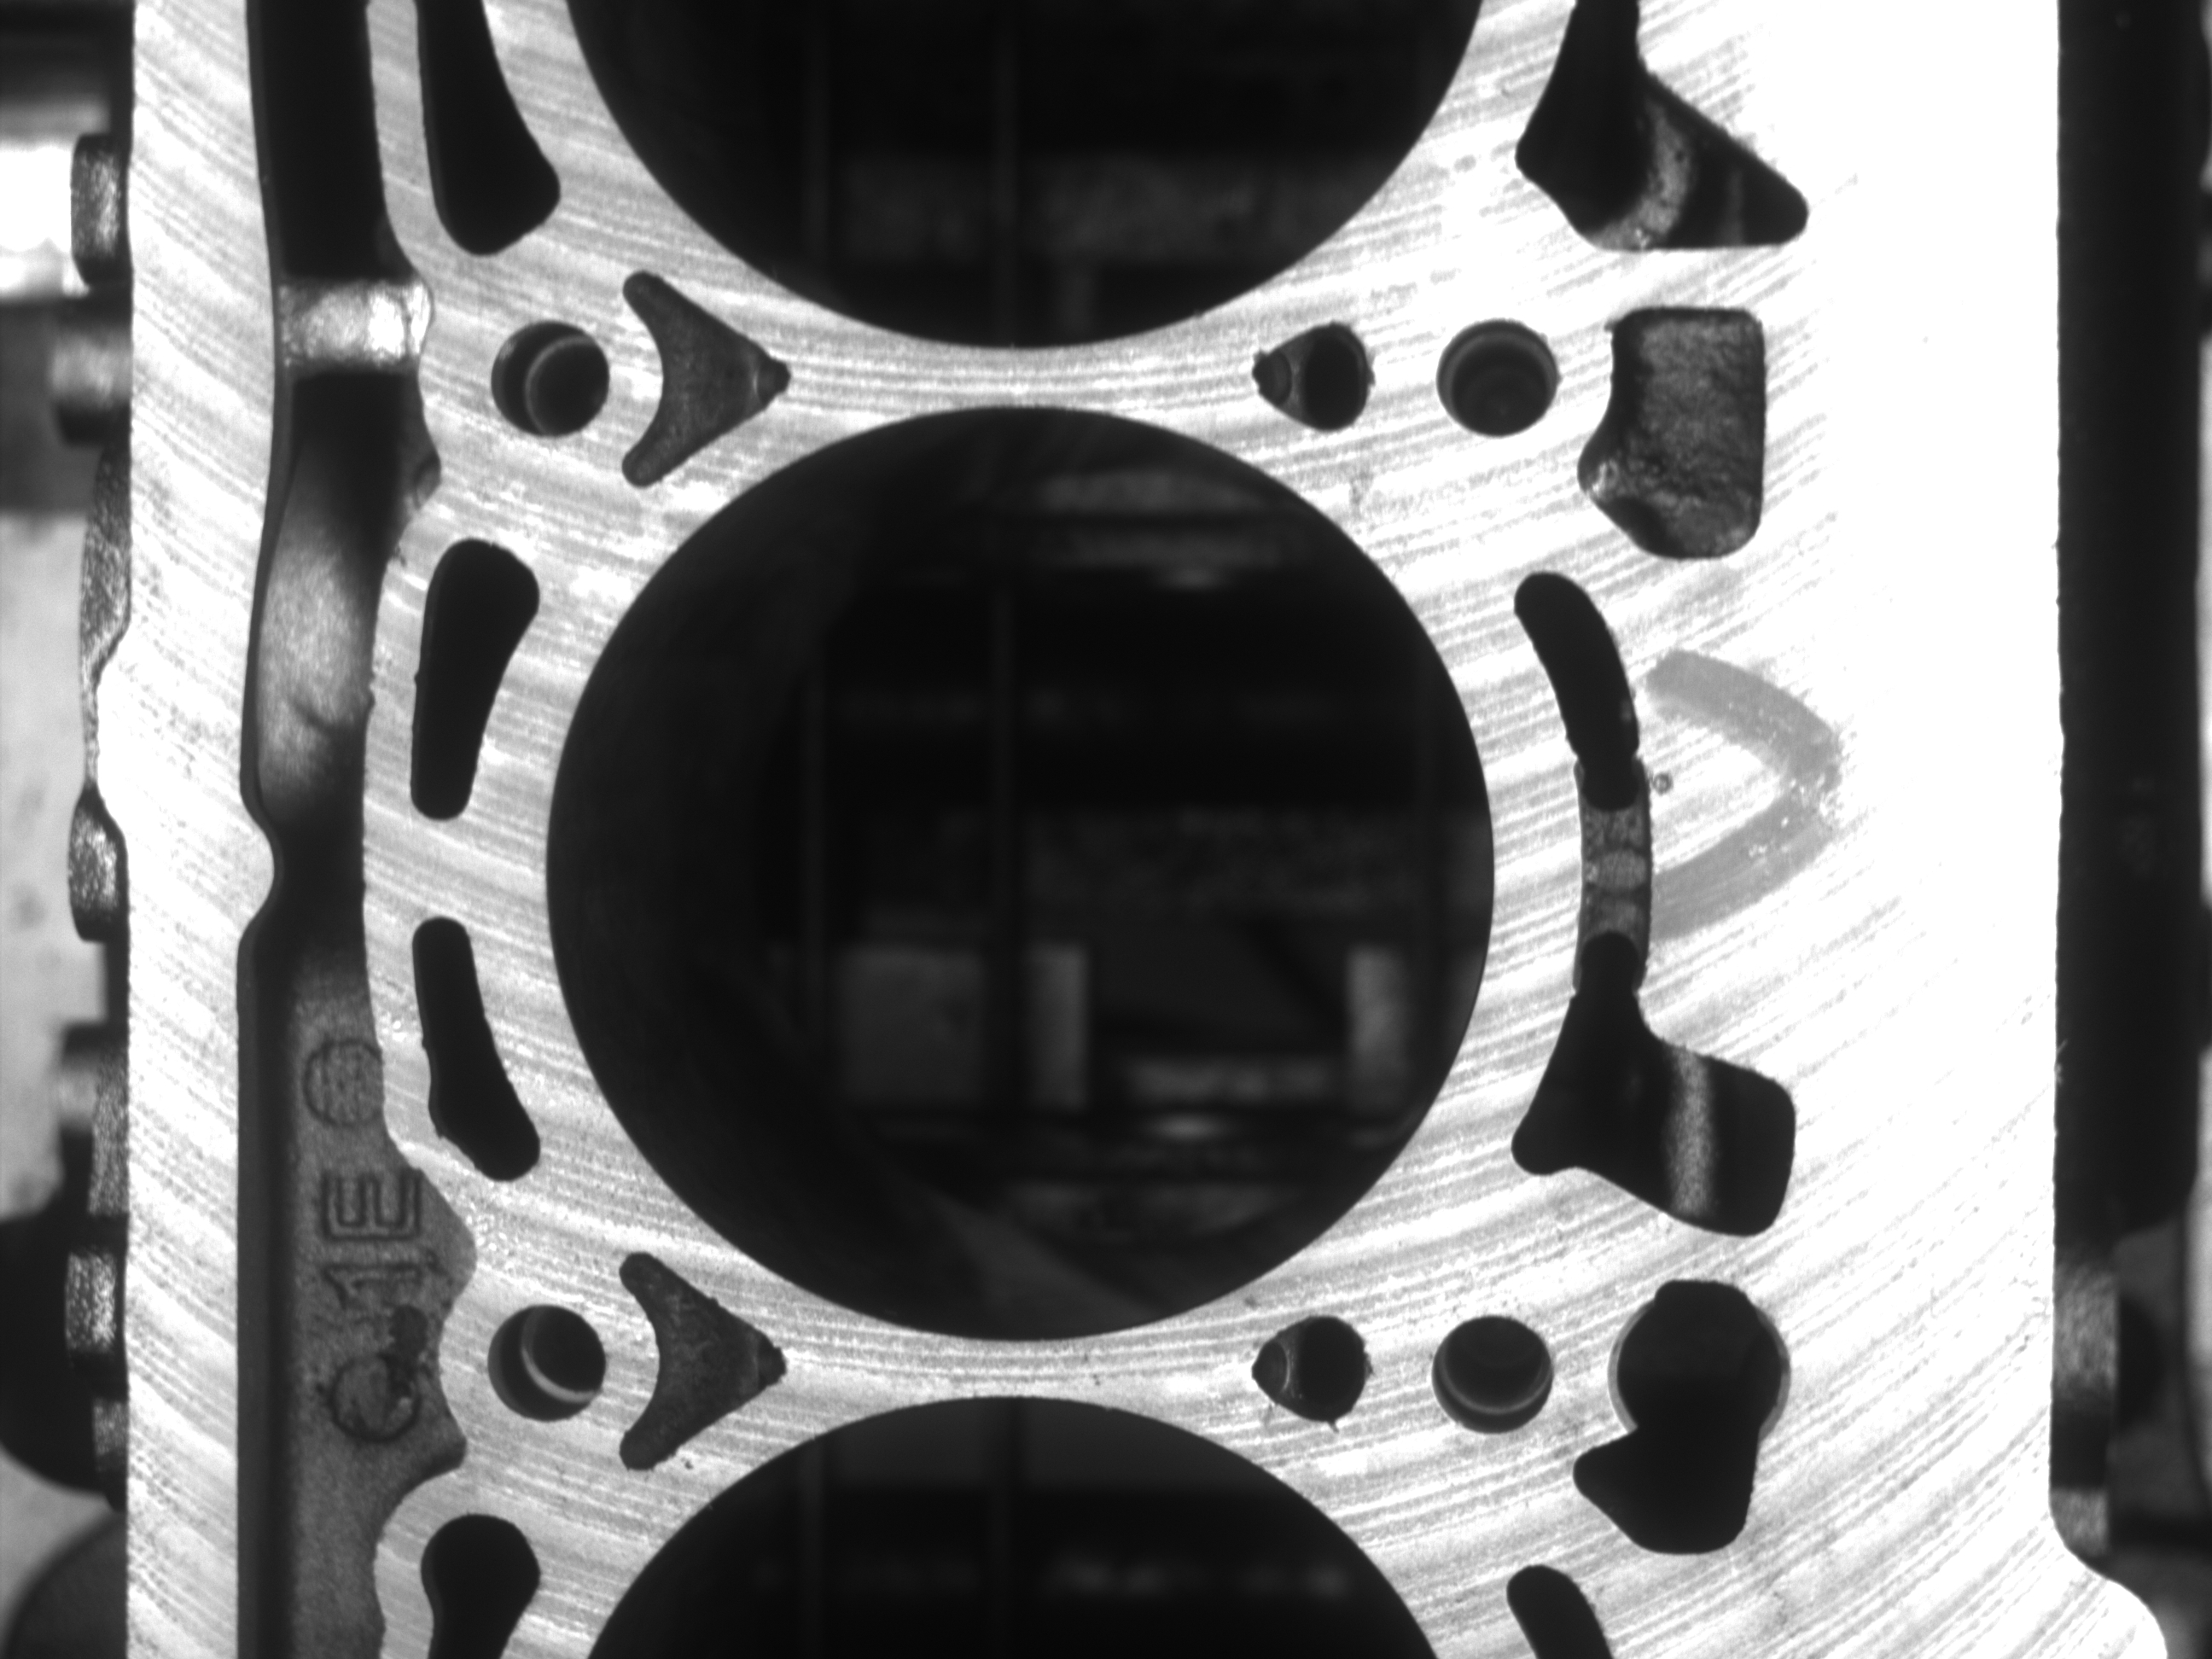crackle: (1649, 748, 1689, 809)
